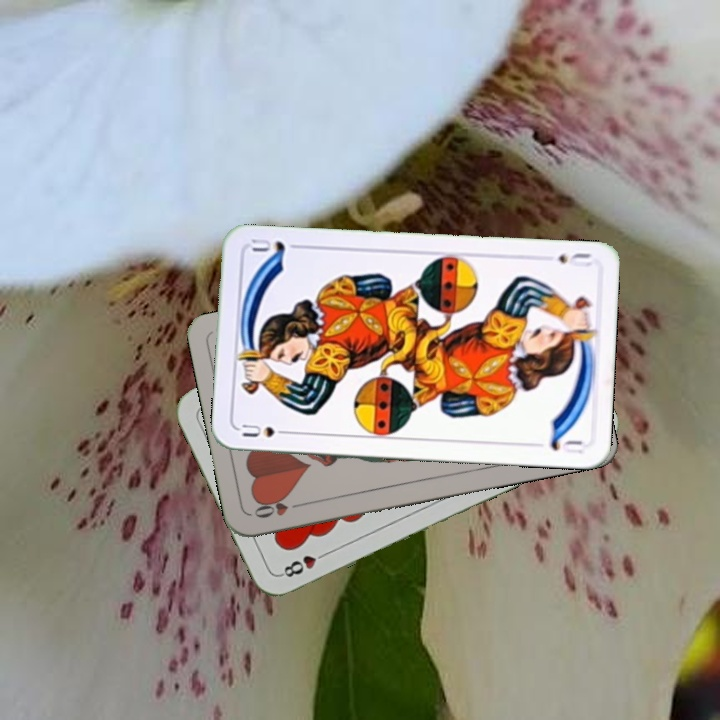H8: (277, 547, 332, 580)
HO: (250, 494, 307, 521)
SU: (238, 419, 295, 440), (554, 248, 594, 270)
